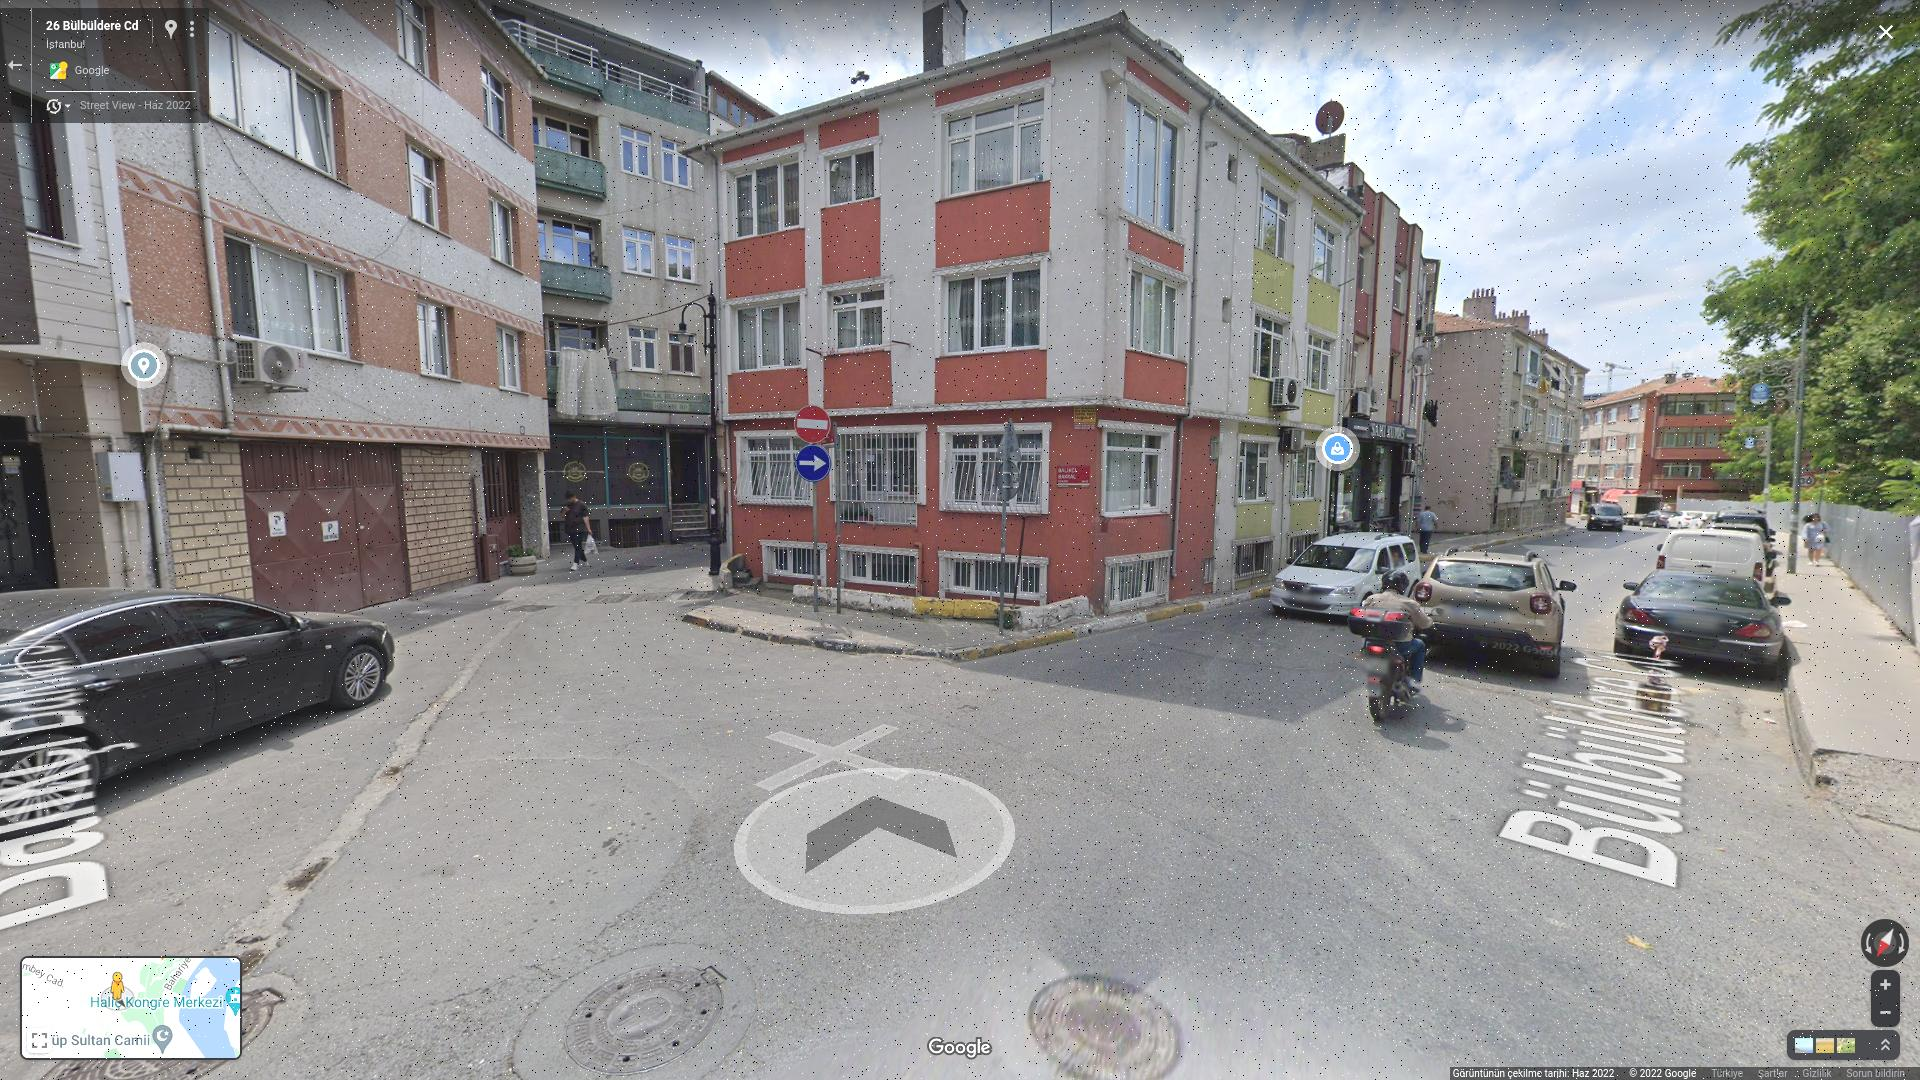turnright: (795, 443, 831, 483)
